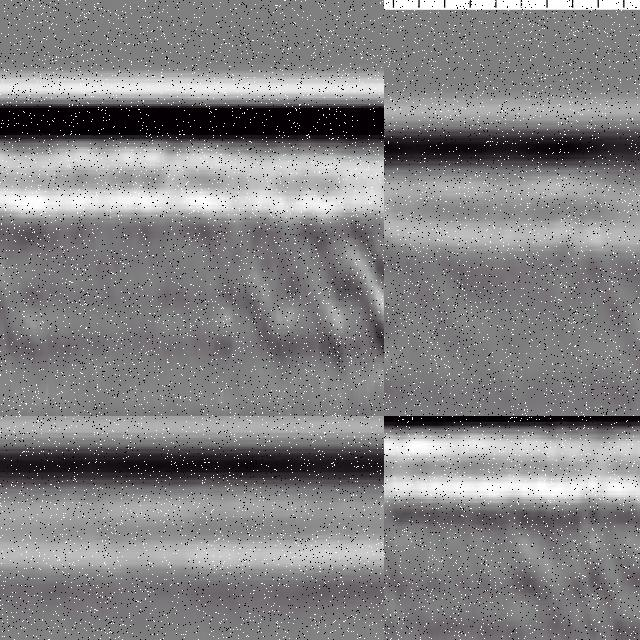loose: (197, 167, 385, 353), (1, 177, 84, 361), (582, 469, 640, 631)
